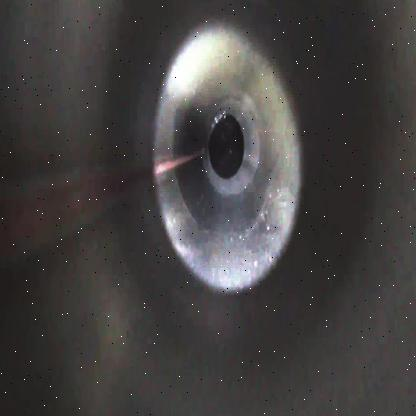NoCrack: (152, 16, 302, 294)
